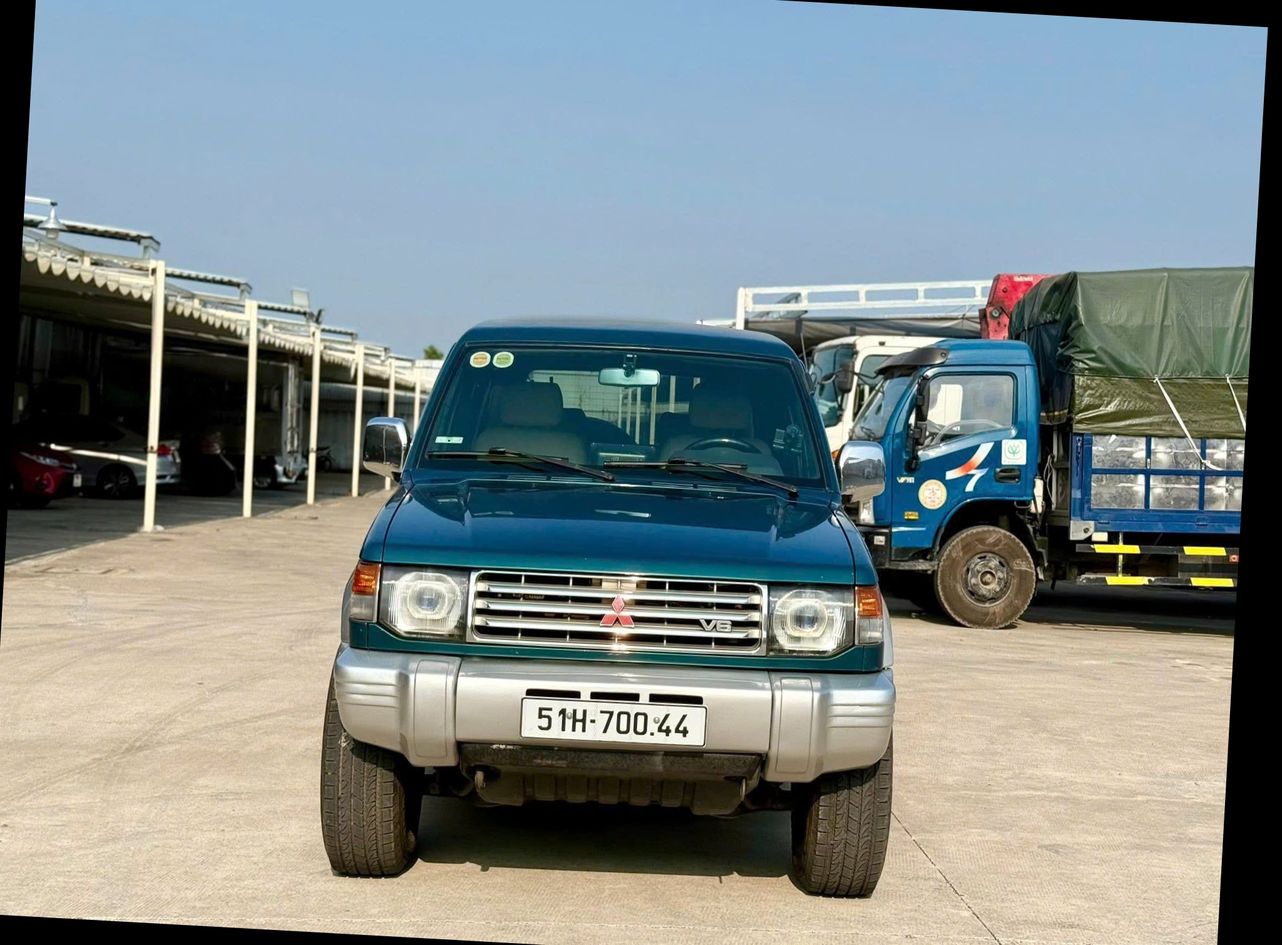Bien-so: (554, 702, 742, 760)
